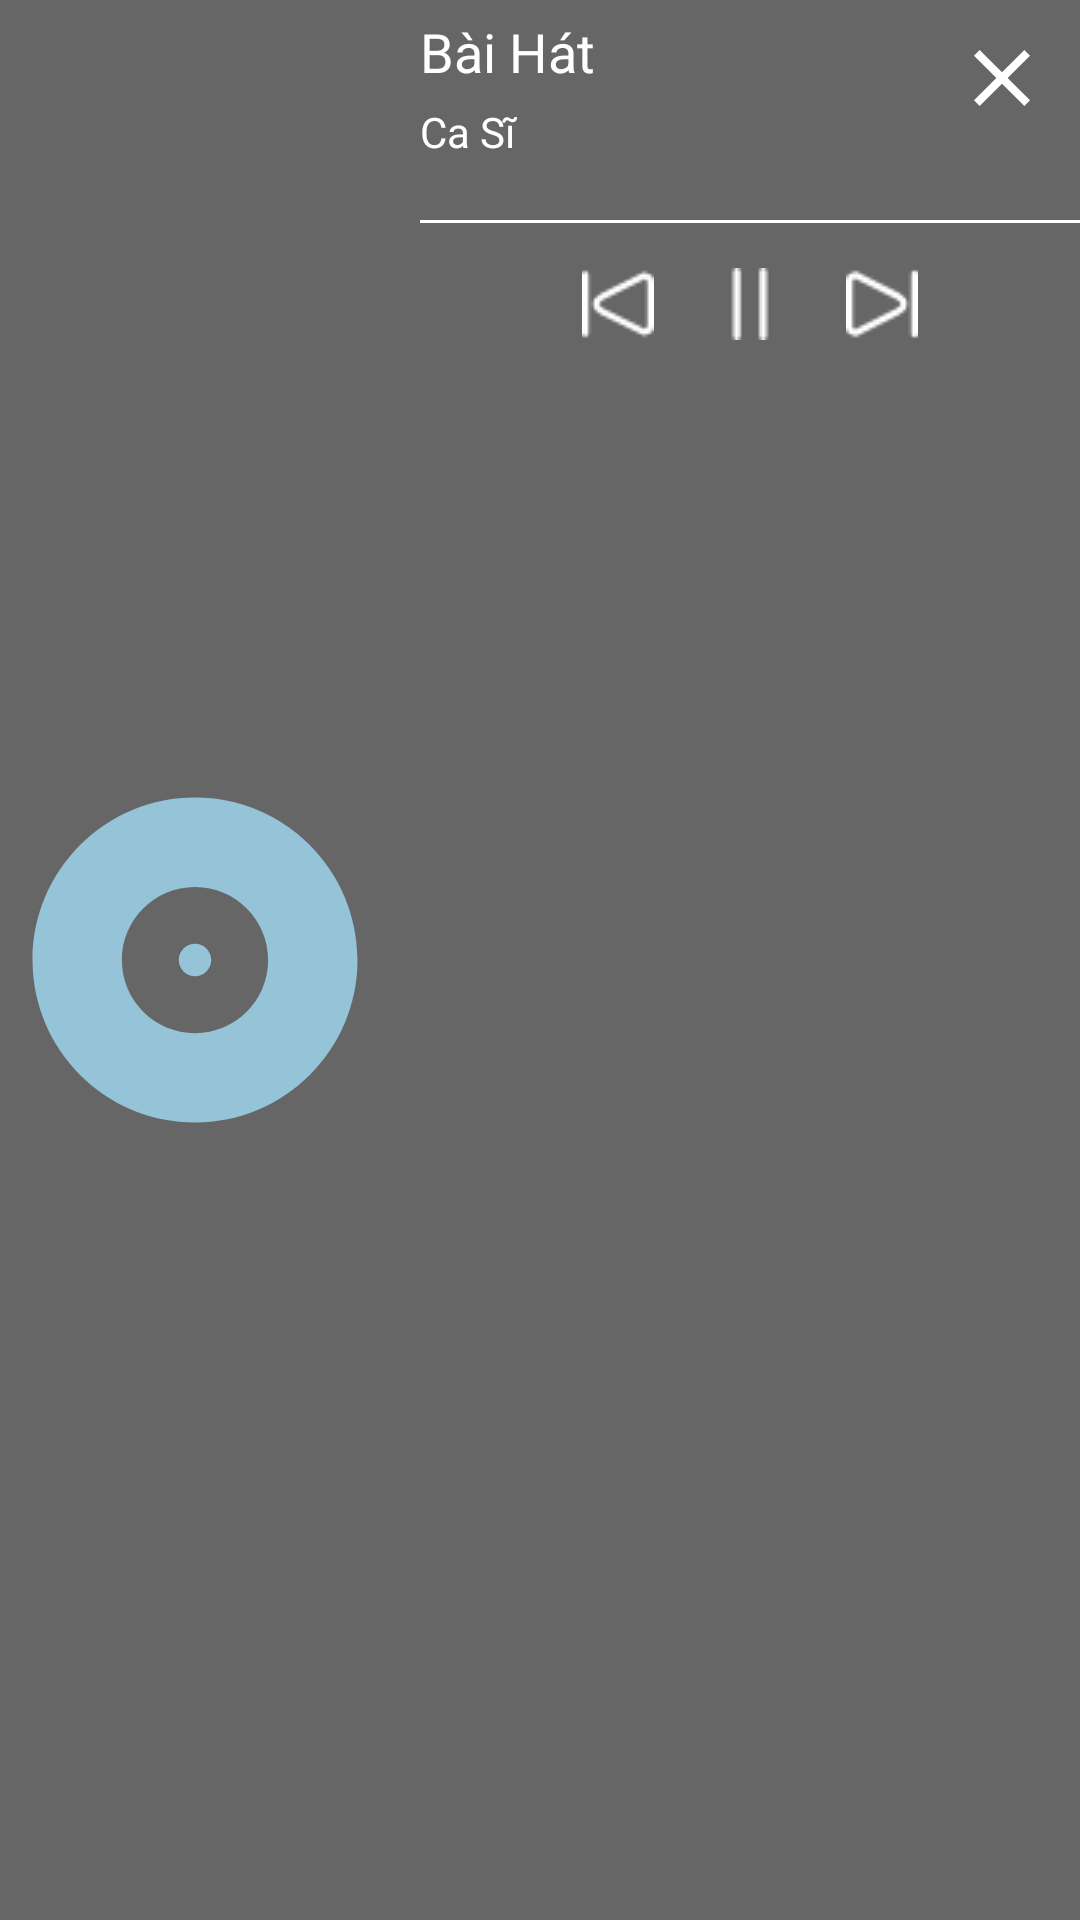

Icon bounding boxes for this 1080×1920 phone screenshot, format (x1, y1, x2, y2):
album: (32, 797, 358, 1123)
back music: (582, 270, 654, 338)
close: (974, 50, 1030, 106)
next music: (846, 270, 918, 338)
pause music: (731, 268, 769, 340)
